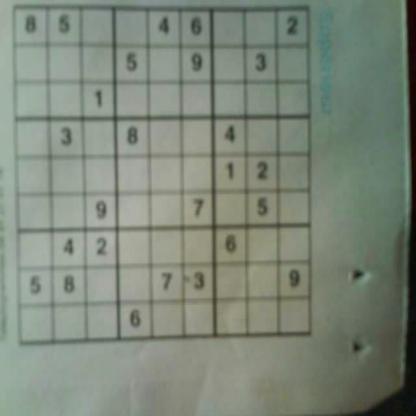sudoku: (9, 0, 317, 353)
